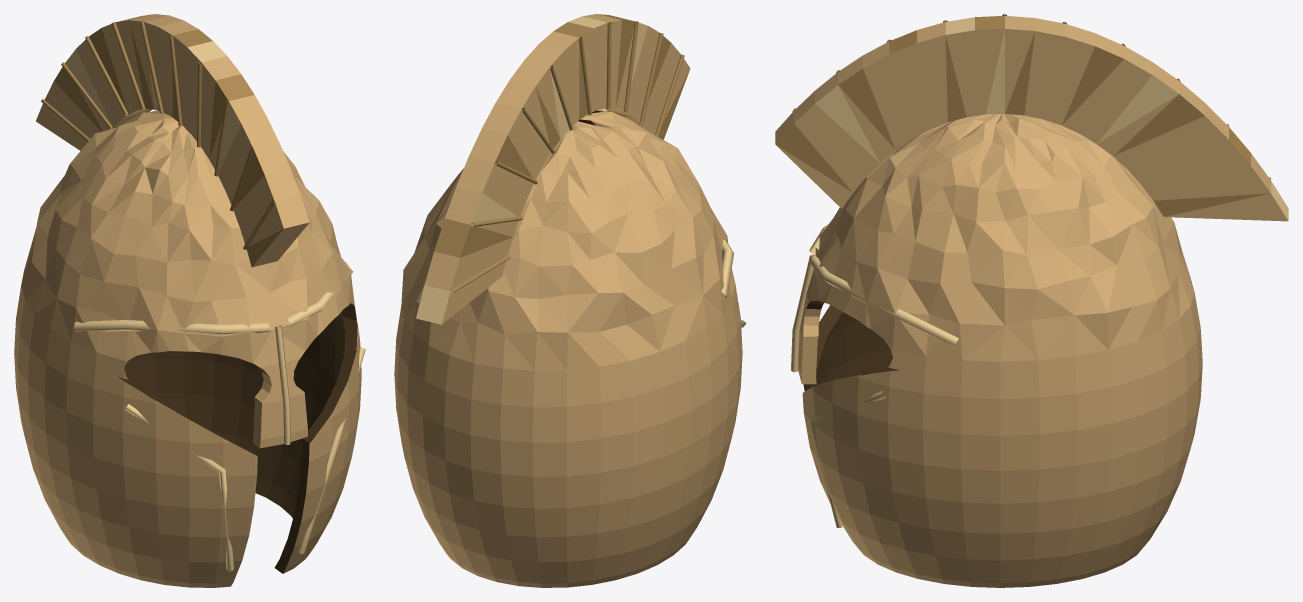
The model's file is swept.glb.
3 views of the same model, side by side, from view 1: azimuth 30°, elevation 25°; view 2: azimuth 150°, elevation 25°; view 3: azimuth 270°, elevation 25° (orthographic). The views are drawn at different scales.
Parts seen in each view (by area): view 1: Hollow helmet shell.001, Radial fan crest.001, Sculpted brow.002, Nasal spine.001, Cheek ridge.002, Cheek ridge.003, Sculpted brow.003; view 2: Hollow helmet shell.001, Radial fan crest.001, Sculpted brow.002; view 3: Hollow helmet shell.001, Radial fan crest.001, Sculpted brow.003, Nasal spine.001.
Boxes of the visible parts, x1,y1,x2,y2 form: Hollow helmet shell.001: [14, 110, 361, 587]; Radial fan crest.001: [36, 14, 309, 267]; Sculpted brow.002: [73, 320, 269, 334]; Nasal spine.001: [275, 325, 290, 444]; Cheek ridge.002: [125, 404, 233, 571]; Cheek ridge.003: [298, 347, 365, 553]; Sculpted brow.003: [285, 258, 353, 328]; Hollow helmet shell.001: [394, 109, 742, 587]; Radial fan crest.001: [416, 14, 690, 324]; Sculpted brow.002: [721, 240, 733, 299]; Hollow helmet shell.001: [798, 114, 1202, 587]; Radial fan crest.001: [775, 15, 1288, 221]; Sculpted brow.003: [809, 255, 958, 347]; Nasal spine.001: [791, 254, 817, 372].
Bounding box in the file's own units: 1.22 × 2.02 × 1.83.
